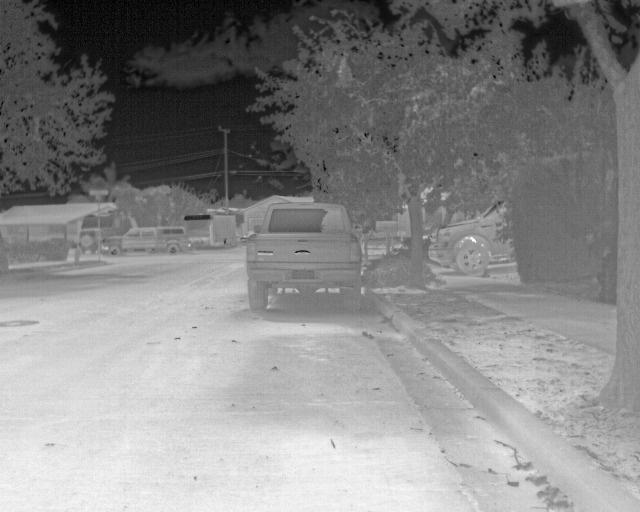car: (246, 202, 362, 314), (427, 197, 517, 277), (101, 224, 165, 255), (161, 224, 190, 254), (78, 227, 100, 255)
